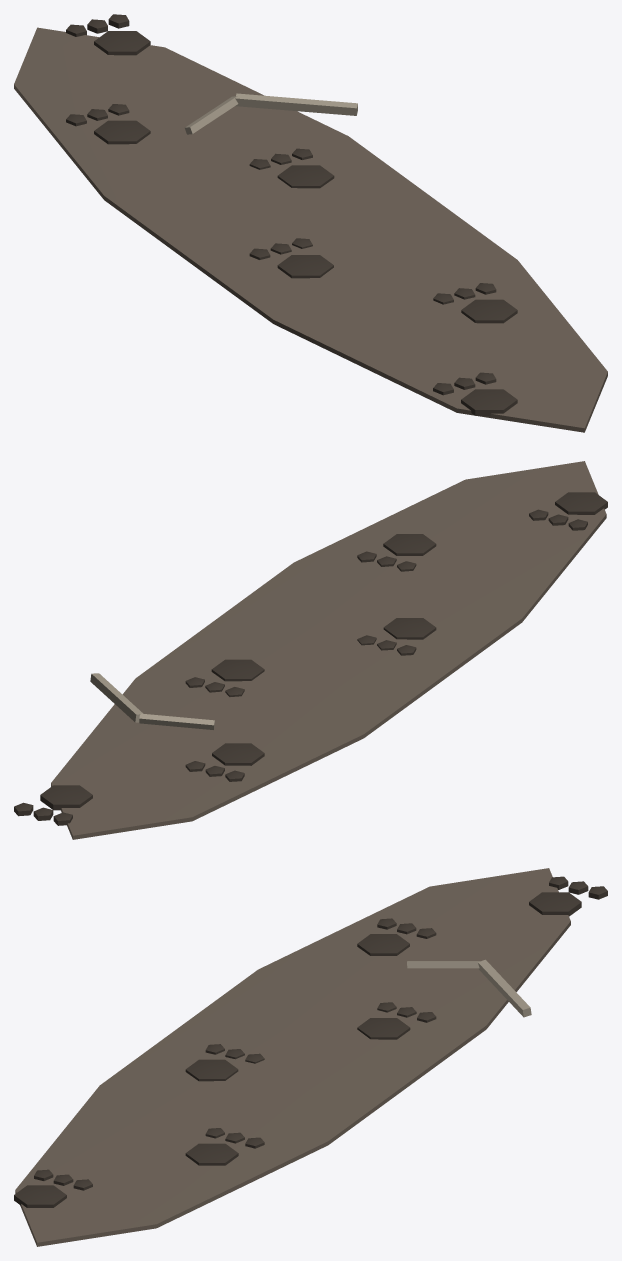
File: tracks_paw.gltf
3 views of the same model, one above another, from view 1: azimuth 30°, elevation 25°; view 2: azimuth 150°, elevation 25°; view 3: azimuth 330°, elevation 25° (orthographic). The views are drawn at different scales.
Parts seen in each view (by area): view 1: Body; view 2: Body; view 3: Body.
Boxes of the visible parts, x1,y1,x2,y2 form: Body: (14,14,607,432); Body: (14,461,607,839); Body: (14,868,607,1246).
Bounding box in the file's own units: 0.7734 × 0.0608 × 2.68.
